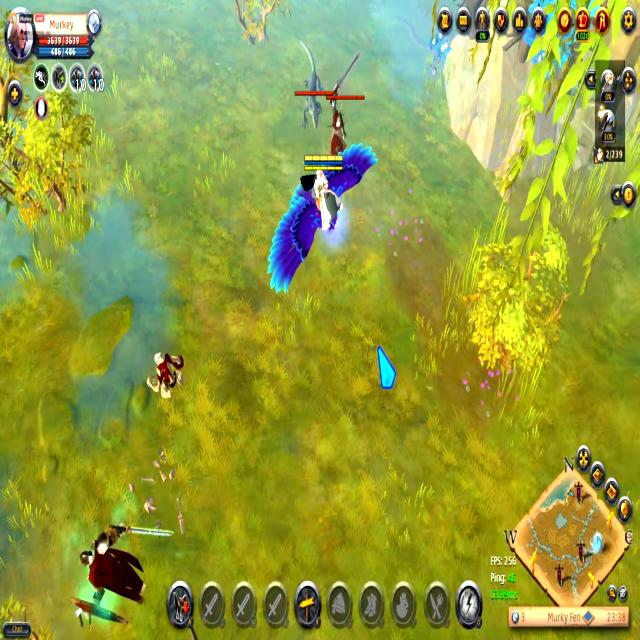hide: (428, 27, 454, 66)
ore: (70, 508, 182, 628), (296, 33, 332, 128), (321, 88, 369, 155), (146, 342, 188, 406)
red: (264, 136, 380, 301)
wisp caged: (493, 0, 589, 205)
